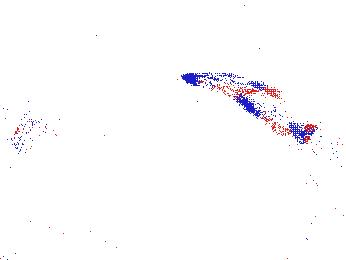X-ray fish: (14, 118, 62, 156)
redtail glassfish: (237, 94, 305, 138), (183, 71, 284, 99)
